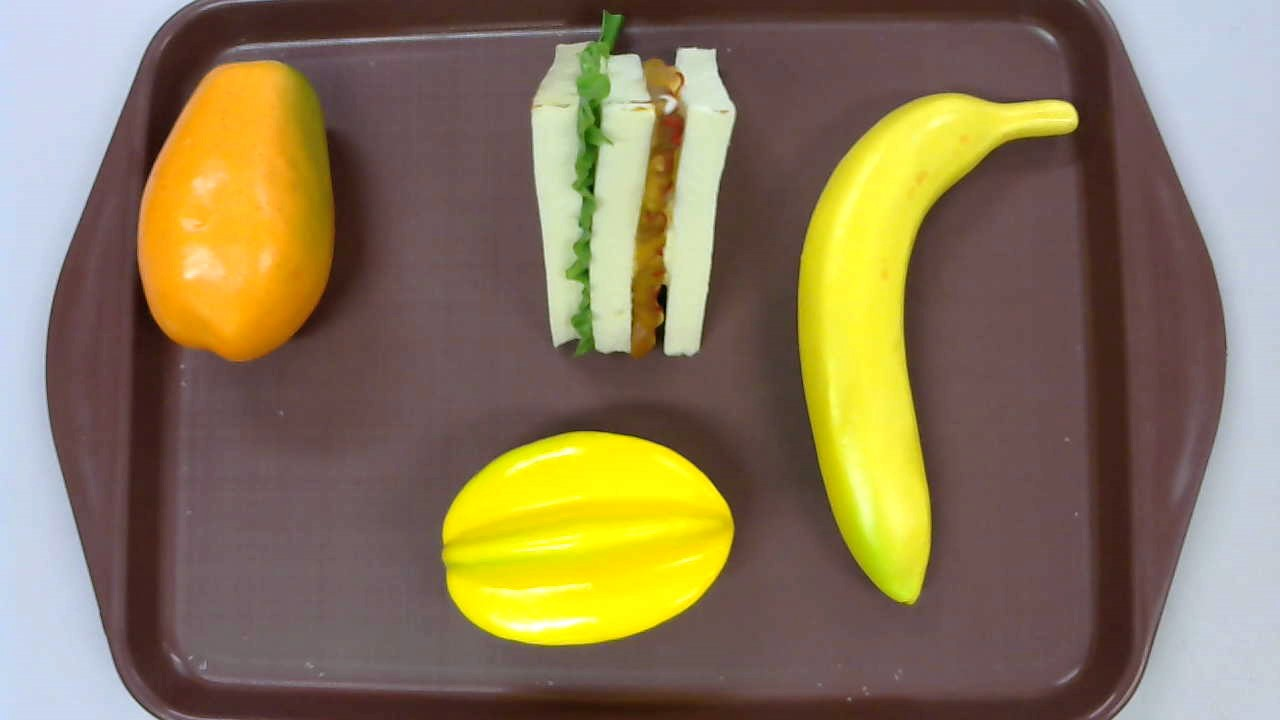banana: (797, 92, 1078, 605)
papya: (136, 61, 334, 363)
sandwich: (530, 10, 738, 362)
star fruit: (441, 431, 735, 645)
